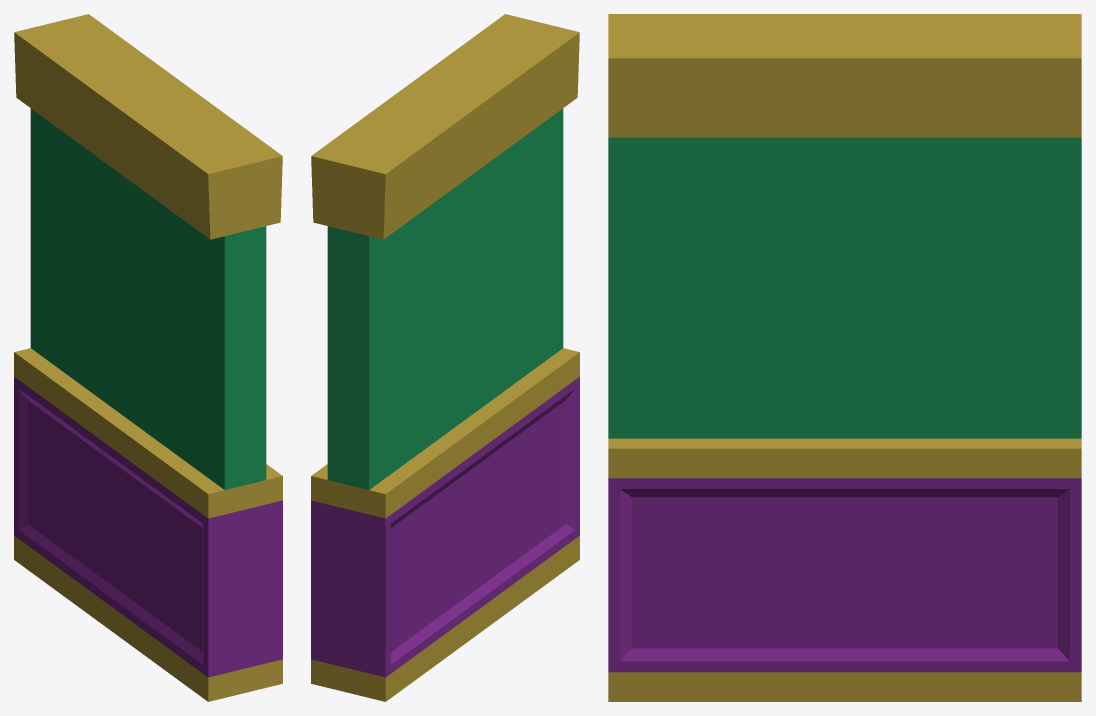
File: Wall2.FBX
3 renders of one model, left to right at view 1: azimuth 30°, elevation 25°; view 2: azimuth 150°, elevation 25°; view 3: azimuth 270°, elevation 25°, orthographic. The views are drawn at different scales.
Parts seen in each view (by area): view 1: Wall2; view 2: Wall2; view 3: Wall2.
Boxes of the visible parts, x1=… form: Wall2: x1=14, y1=14, x2=282, y2=701; Wall2: x1=311, y1=14, x2=579, y2=701; Wall2: x1=608, y1=14, x2=1081, y2=701.
Bounding box in the file's own units: 0.7392 × 5 × 3.33.
